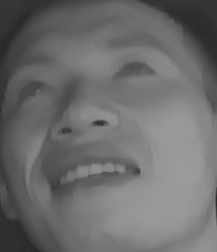eye: (112, 54, 159, 91), (12, 76, 59, 105)
mouth: (43, 150, 142, 202)
